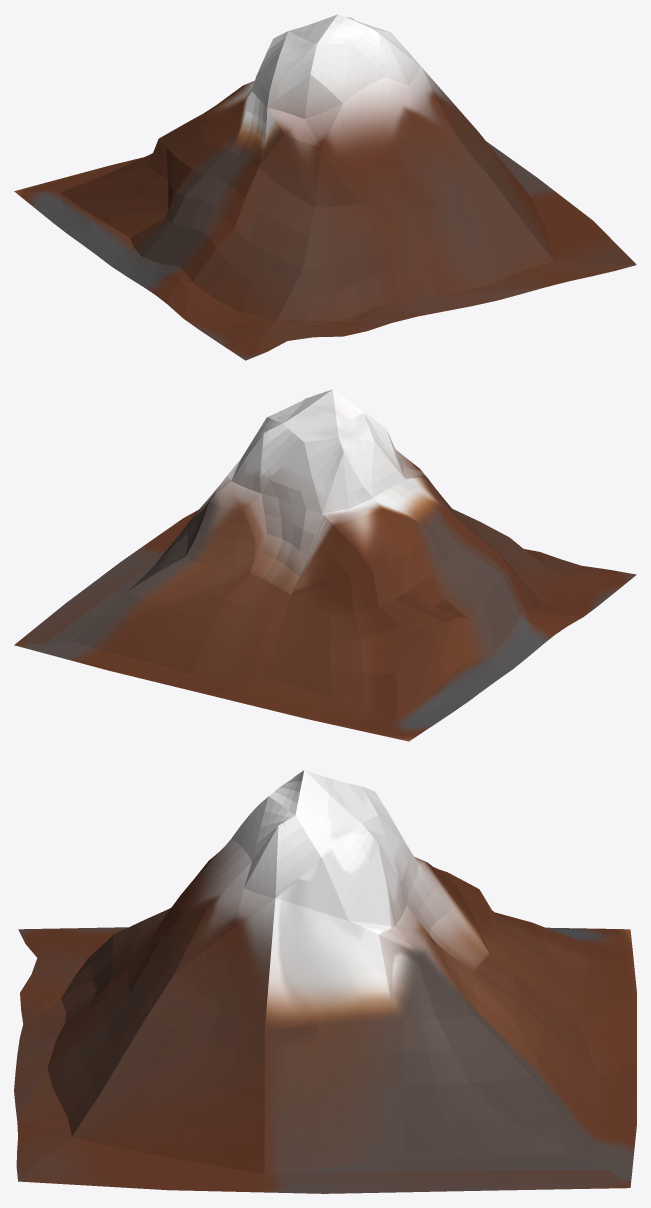
File: dag.fbx
3 renders of one model, top to bottom at view 1: azimuth 30°, elevation 25°; view 2: azimuth 150°, elevation 25°; view 3: azimuth 270°, elevation 25°, orthographic. The views are drawn at different scales.
Visible parts, largest first — view 1: Plane; view 2: Plane; view 3: Plane.
Part boxes in pixels (x1=…): Plane: x1=14, y1=14, x2=636, y2=360; Plane: x1=14, y1=389, x2=636, y2=741; Plane: x1=14, y1=770, x2=636, y2=1193.
Size of the model in its own units: 1382 by 705 by 1370.
1 material, 1 textured.
